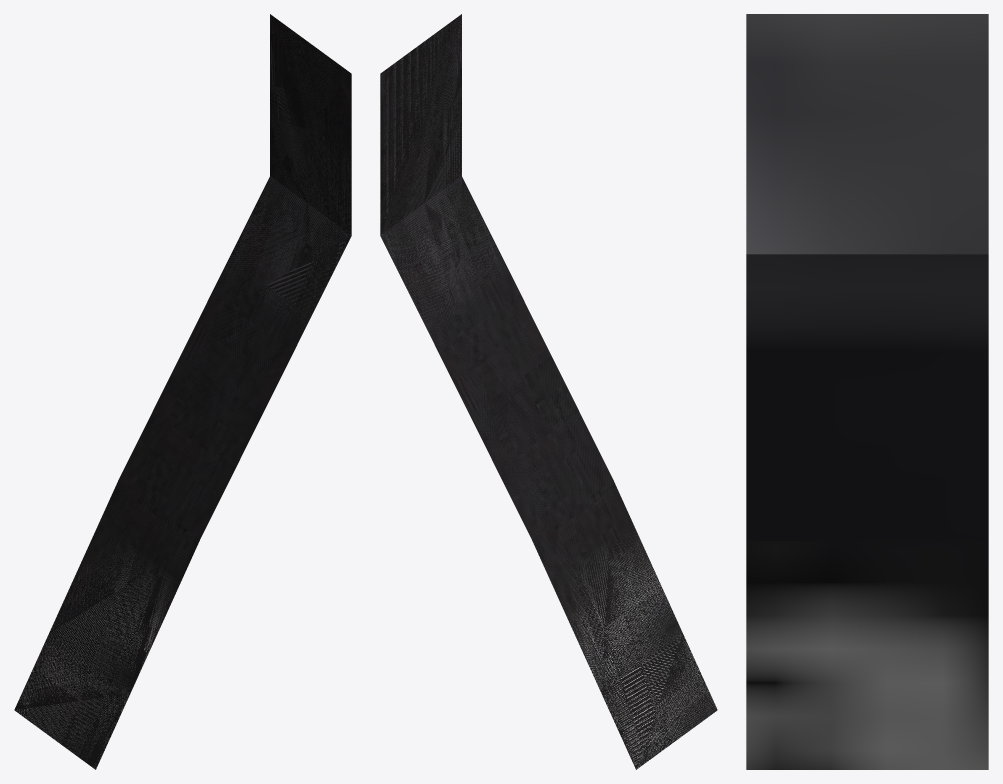
File: original-146.obj
3 views of the same model, side by side, from view 1: azimuth 30°, elevation 25°; view 2: azimuth 150°, elevation 25°; view 3: azimuth 270°, elevation 25° (orthographic). The views are drawn at different scales.
Parts seen in each view (by area): view 1: mesh46/mesh46-geometry/material_8/component_1#mesh46-geometry; view 2: mesh46/mesh46-geometry/material_8/component_1#mesh46-geometry; view 3: mesh46/mesh46-geometry/material_8/component_1#mesh46-geometry.
Part boxes in pixels (x1,y1,x2,y2): mesh46/mesh46-geometry/material_8/component_1#mesh46-geometry: [14, 14, 351, 769]; mesh46/mesh46-geometry/material_8/component_1#mesh46-geometry: [380, 14, 717, 769]; mesh46/mesh46-geometry/material_8/component_1#mesh46-geometry: [746, 14, 988, 769].
Bounding box in the file's own units: 0.0318 × 0.0753 × 0.0176.
2 materials, 2 textured.
